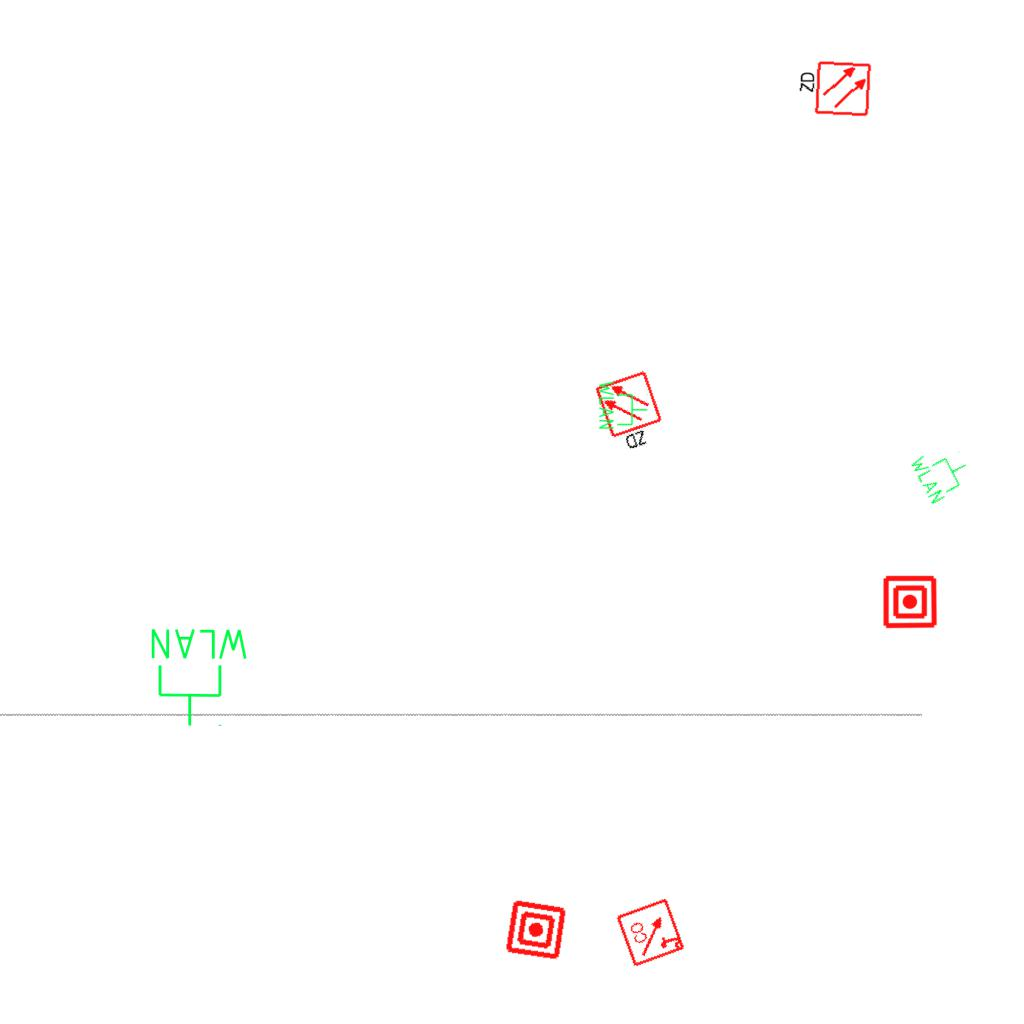NAM-Nichtautomatischer_Melder: (503, 897, 569, 963), (882, 574, 938, 630)
ROA_Rauchmelder_optisch_mit_Signalgeber_(Sockelsirene): (615, 896, 687, 968)
WLAN: (147, 625, 252, 729), (906, 436, 978, 508), (597, 379, 649, 431)
ZD_Melder_in_Zwischendecke_mit_Revisionsoeffnung_mind_40_x_40_cm: (593, 368, 672, 458), (795, 58, 872, 120)
